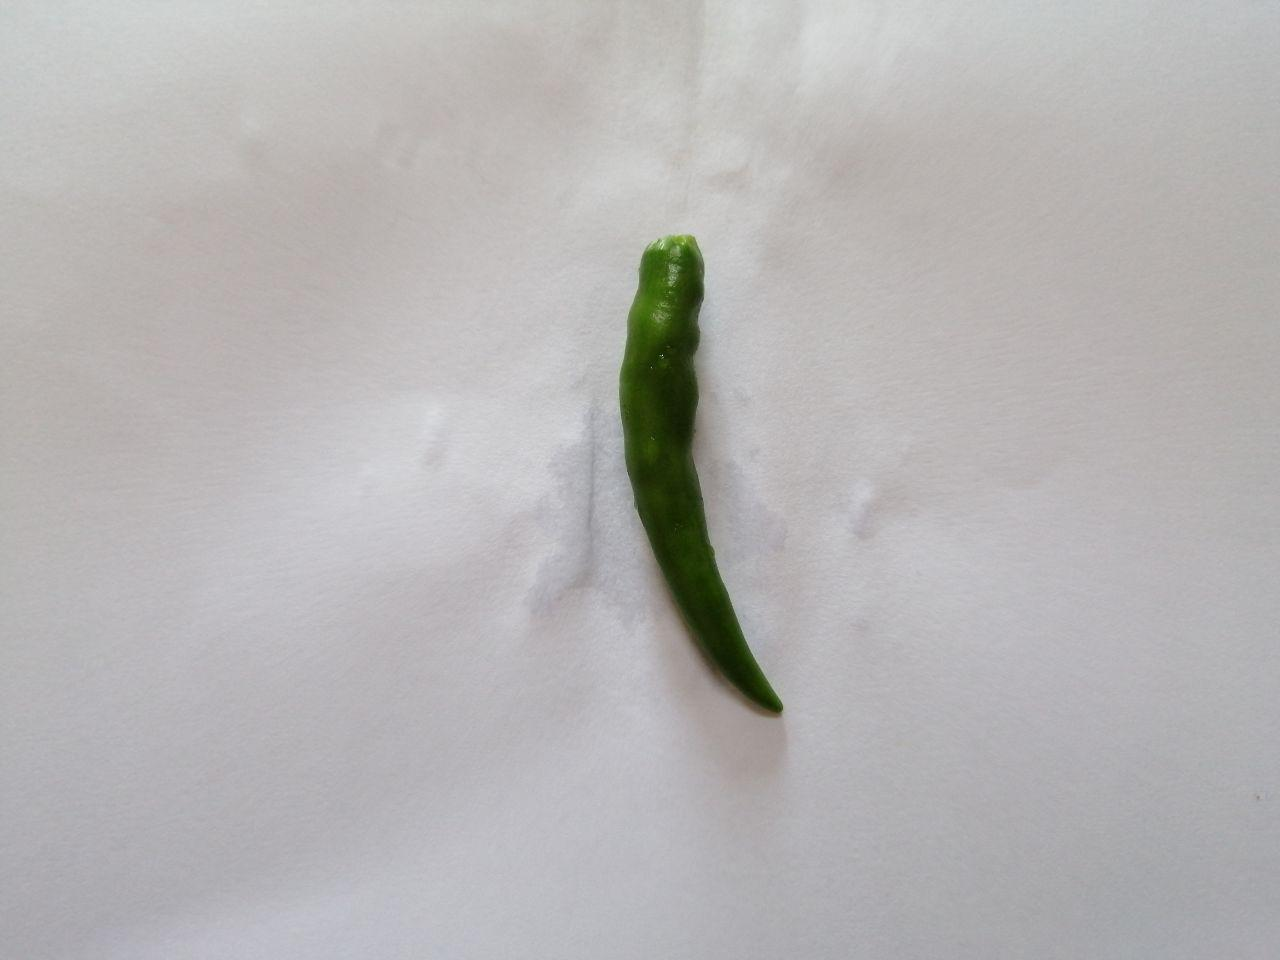lada hijau: (593, 215, 877, 744)
